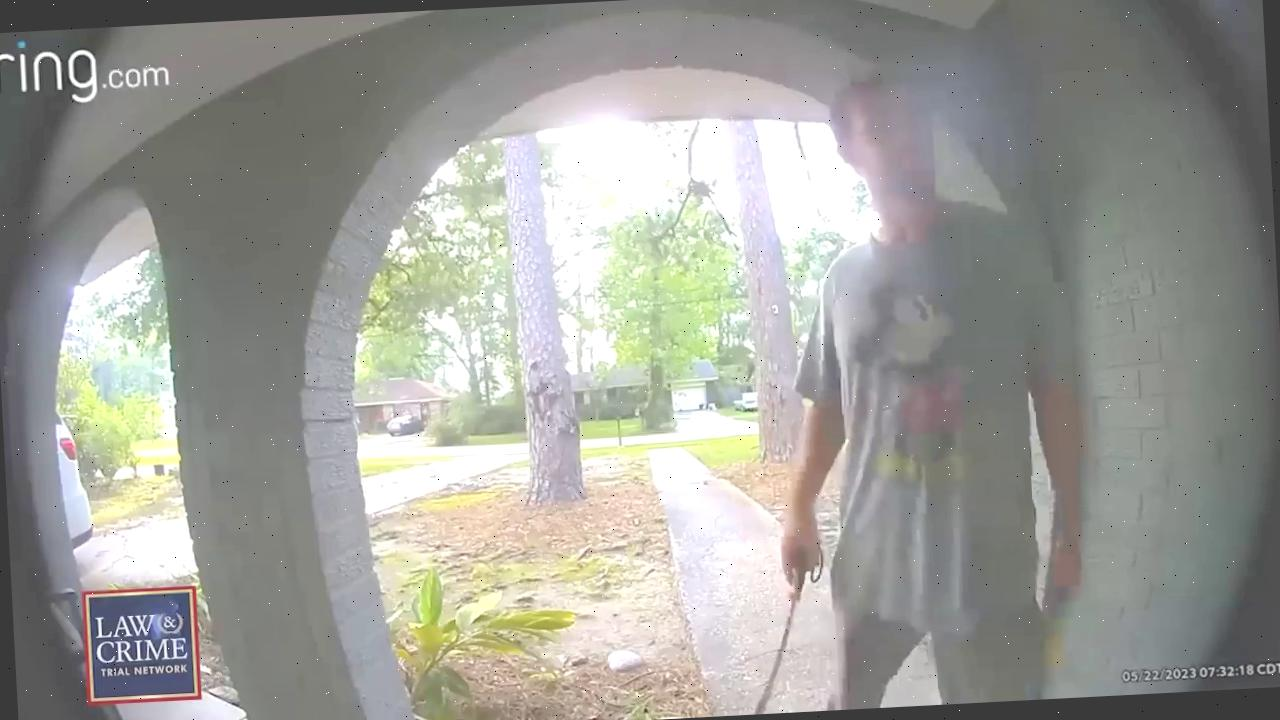suspicion: (734, 68, 1088, 714)
